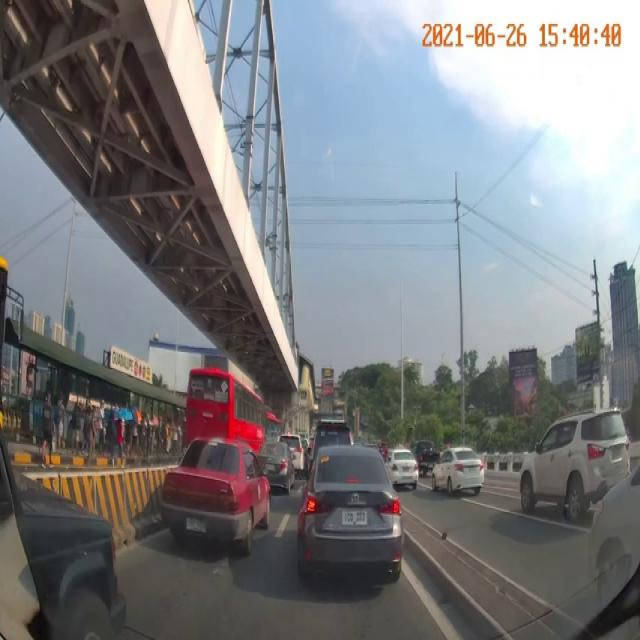bus: (184, 366, 270, 468)
car: (172, 443, 268, 553), (530, 411, 620, 508), (438, 448, 482, 496), (258, 437, 294, 492), (388, 451, 428, 487)
